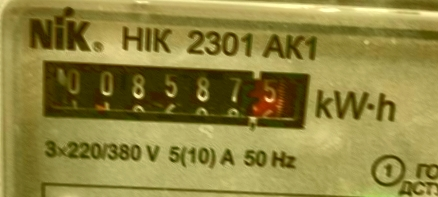0: (64, 65, 83, 95), (98, 68, 116, 97)
5: (262, 76, 280, 106), (162, 71, 180, 100)
7: (226, 73, 244, 104)
8: (194, 72, 212, 103), (130, 71, 147, 100)
screen: (22, 43, 328, 143)
